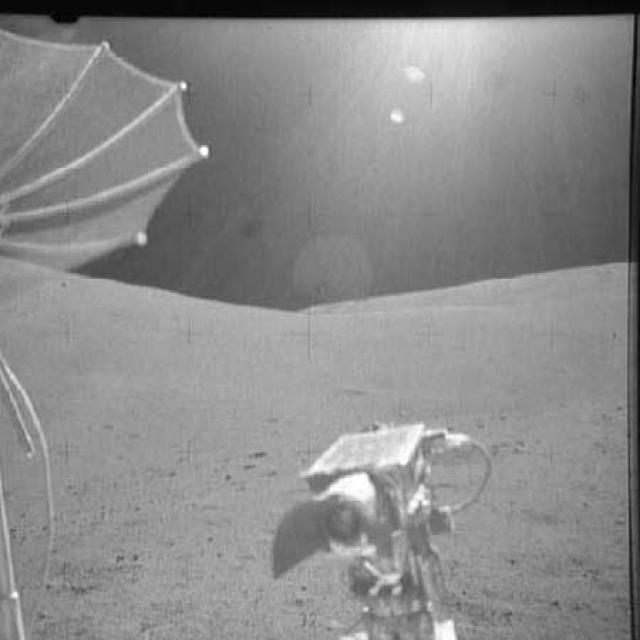artifact: (0, 16, 220, 638), (265, 419, 506, 639)
